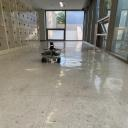cart: (41, 49, 61, 63)
